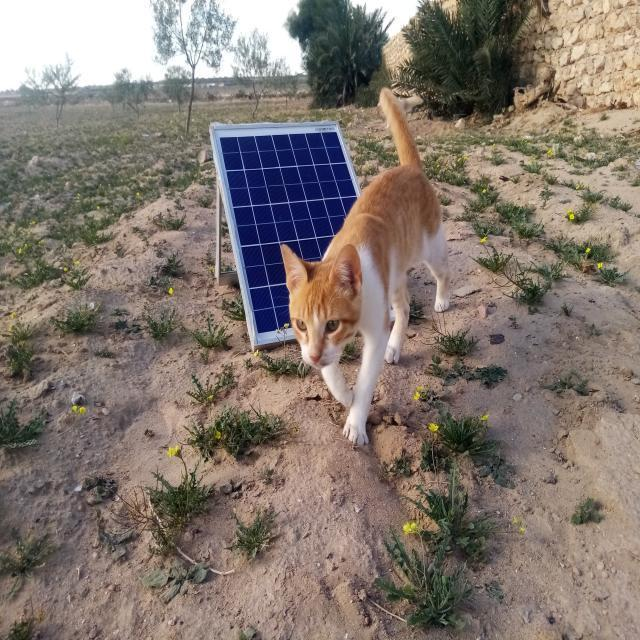Normal Solar Panel: (214, 121, 345, 338)
